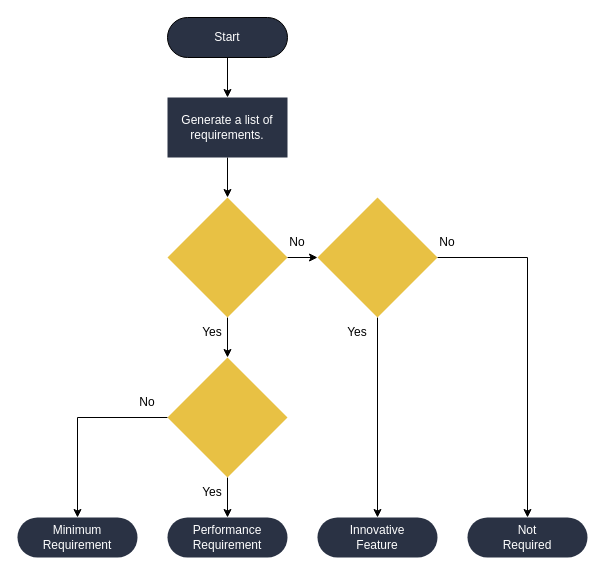
Image size: 604x575. Some labels were removed from this diagram. The centre of each missing label's shape, as x and y in pixels:
Will the customer be impressed if you do it well?: point (227, 417)
Will the customer be impressed if you include it?: point (377, 257)
Will the customer notice it's missing?: point (227, 257)
